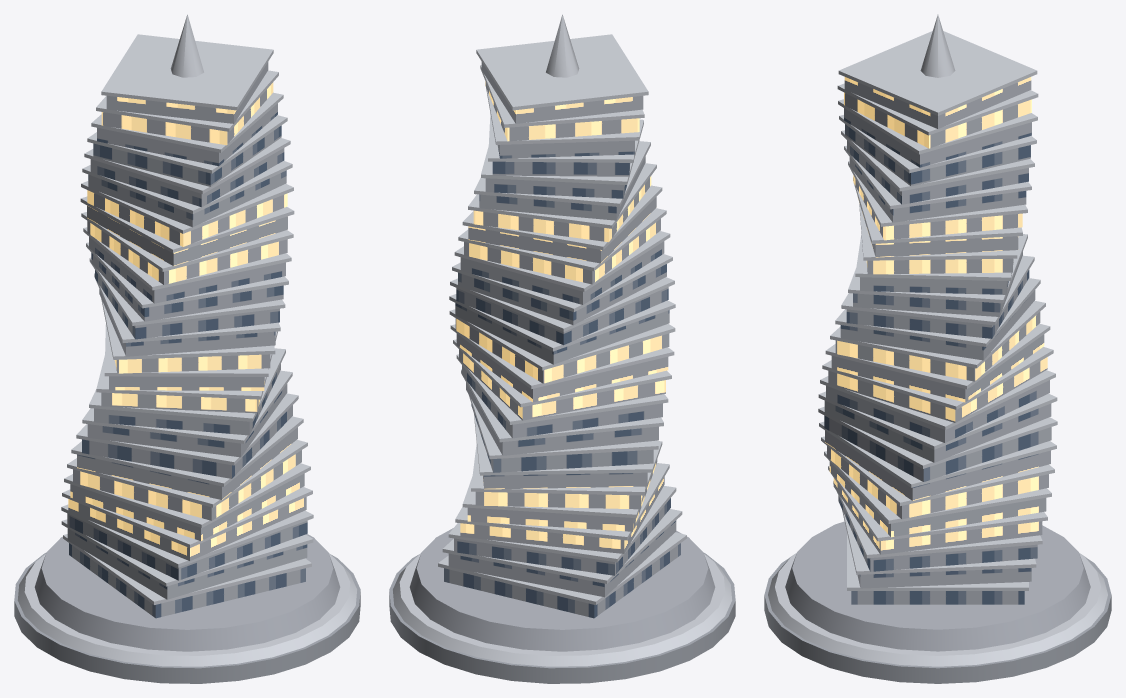
Rendered from tier-14-twisted-supertall.glb.
3 renders of one model, left to right at view 1: azimuth 30°, elevation 25°; view 2: azimuth 150°, elevation 25°; view 3: azimuth 270°, elevation 25°, orthographic.
Parts seen in each view (by area): view 1: window, gloss, matte; view 2: window, gloss, matte; view 3: window, gloss, matte.
Boxes of the visible parts, x1,y1,x2,y2 form: window: (67,62,307,618); gloss: (34,14,340,651); matte: (14,552,360,683); window: (444,62,680,618); gloss: (409,14,715,651); matte: (389,552,735,683); window: (824,77,1051,604); gloss: (785,14,1090,651); matte: (764,553,1111,683).
Size of the model in its own units: 1 by 1.9 by 1.
3 materials, 1 textured.
